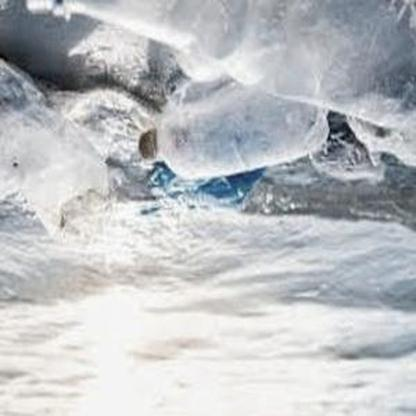plastic bottle: (24, 3, 416, 126), (138, 75, 330, 179)
